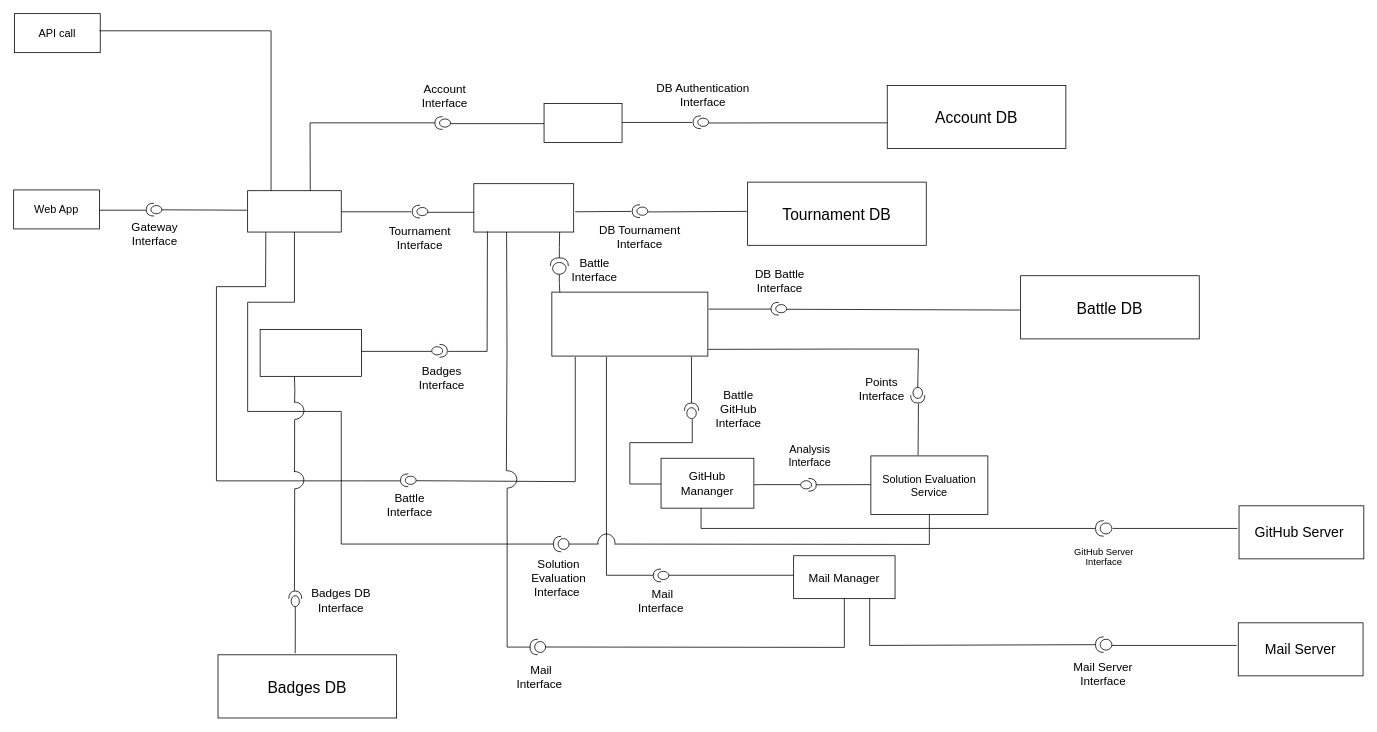
This 1377x732 diagram has some shape labels left out. The shapes that lost their labels are listed below. From the top down, each one's centre as x and y in pixels, then its label:
At (582,123): "Account Manager".
At (294,211): "API Gateway".
At (523,207): "Tournament Manager".
At (629,323): "Battle Manager".
At (310,352): "Badges Manager".
